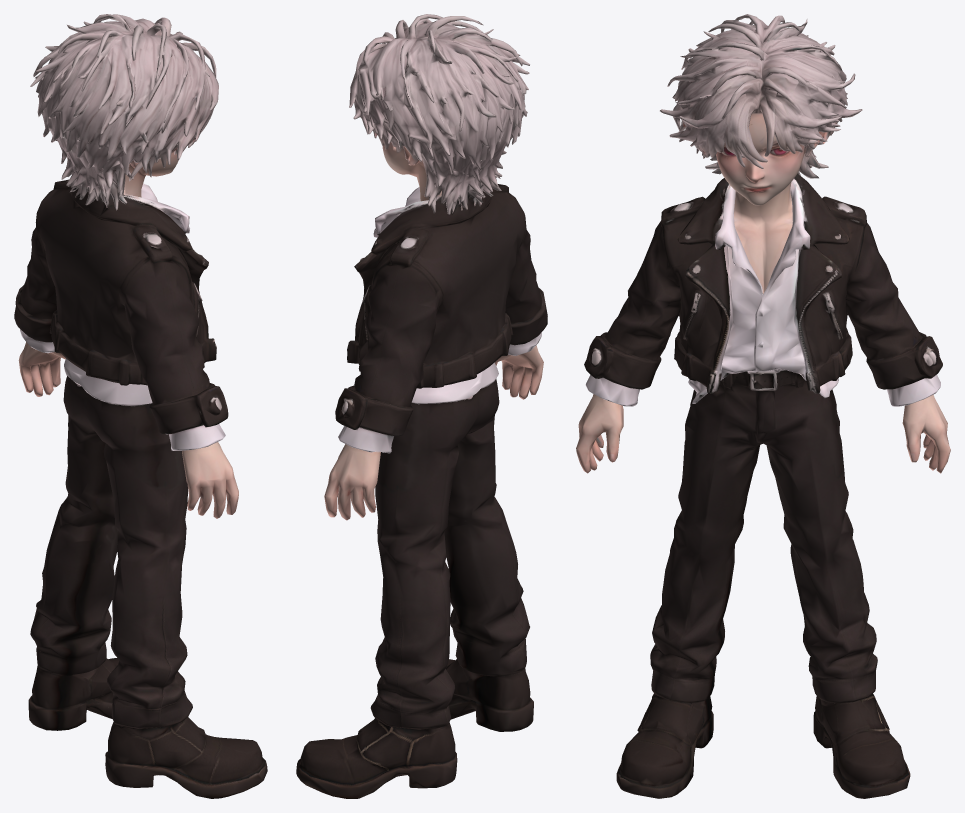
File: middle.glb
3 views of the same model, side by side, from view 1: azimuth 30°, elevation 25°; view 2: azimuth 150°, elevation 25°; view 3: azimuth 270°, elevation 25° (orthographic).
Visible parts, largest first — view 1: tripo_node_11320632-9dbc-489b-8da7-b8248162fe40; view 2: tripo_node_11320632-9dbc-489b-8da7-b8248162fe40; view 3: tripo_node_11320632-9dbc-489b-8da7-b8248162fe40.
Boxes of the visible parts, <box> form: tripo_node_11320632-9dbc-489b-8da7-b8248162fe40: <box>14,14,267,798</box>; tripo_node_11320632-9dbc-489b-8da7-b8248162fe40: <box>296,14,547,798</box>; tripo_node_11320632-9dbc-489b-8da7-b8248162fe40: <box>576,14,950,798</box>.
Bounding box in the file's own units: 0.2315 × 0.9991 × 0.458.
Materials: 1 (1 with a texture image).
